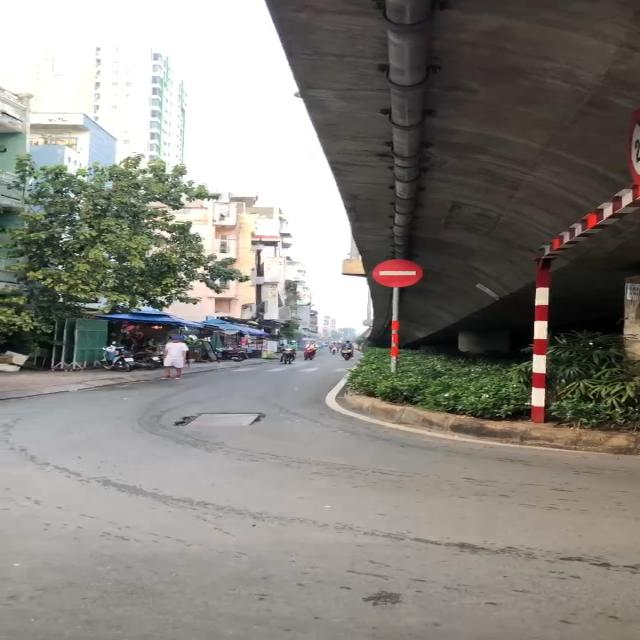Bien bao cam di nguoc chieu: (370, 256, 426, 289)
